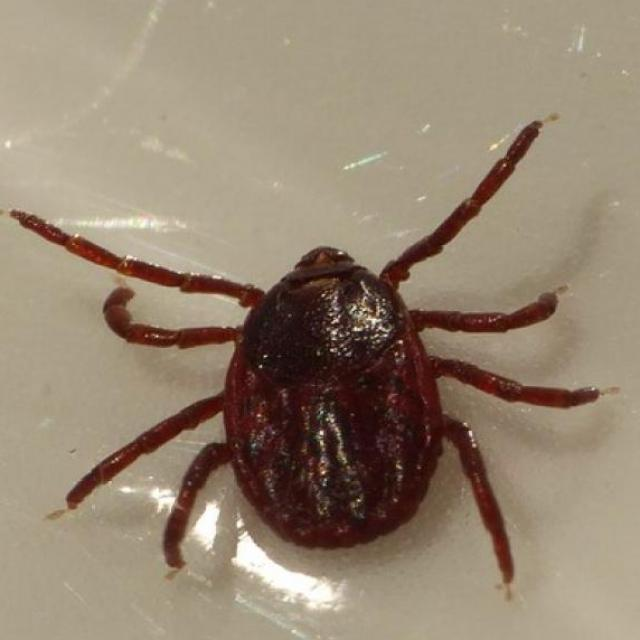Rhipicephalus Sanguineus-F: (4, 121, 604, 589)
